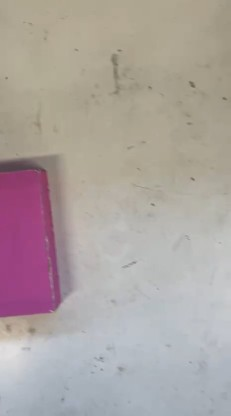pink: (0, 175, 92, 305)
